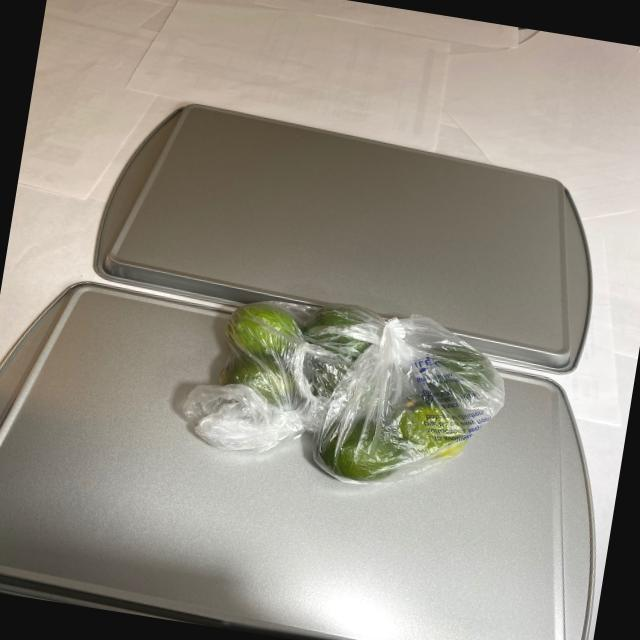lemon: (195, 288, 500, 494)
